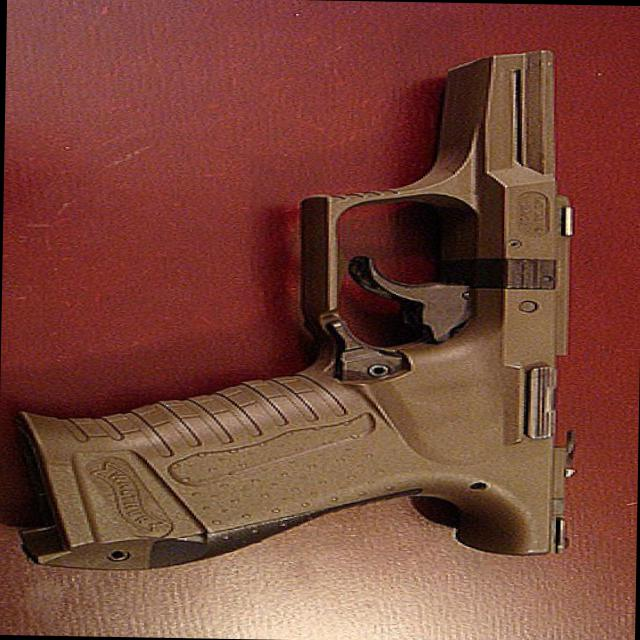handgun: (20, 35, 588, 578)
